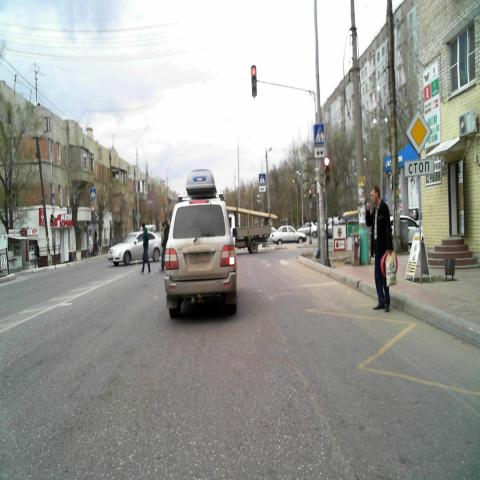2_1: (406, 109, 432, 156)
5_19_1: (313, 123, 327, 145), (90, 187, 96, 198), (259, 174, 265, 184)
6_16: (406, 158, 434, 177)
8_15: (314, 146, 326, 157)
